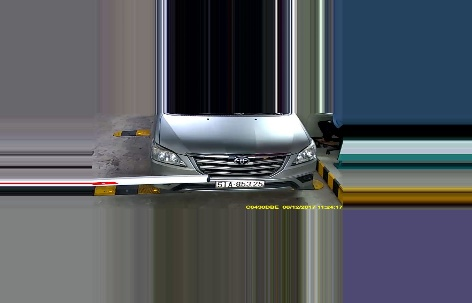plate: (216, 177, 267, 190)
